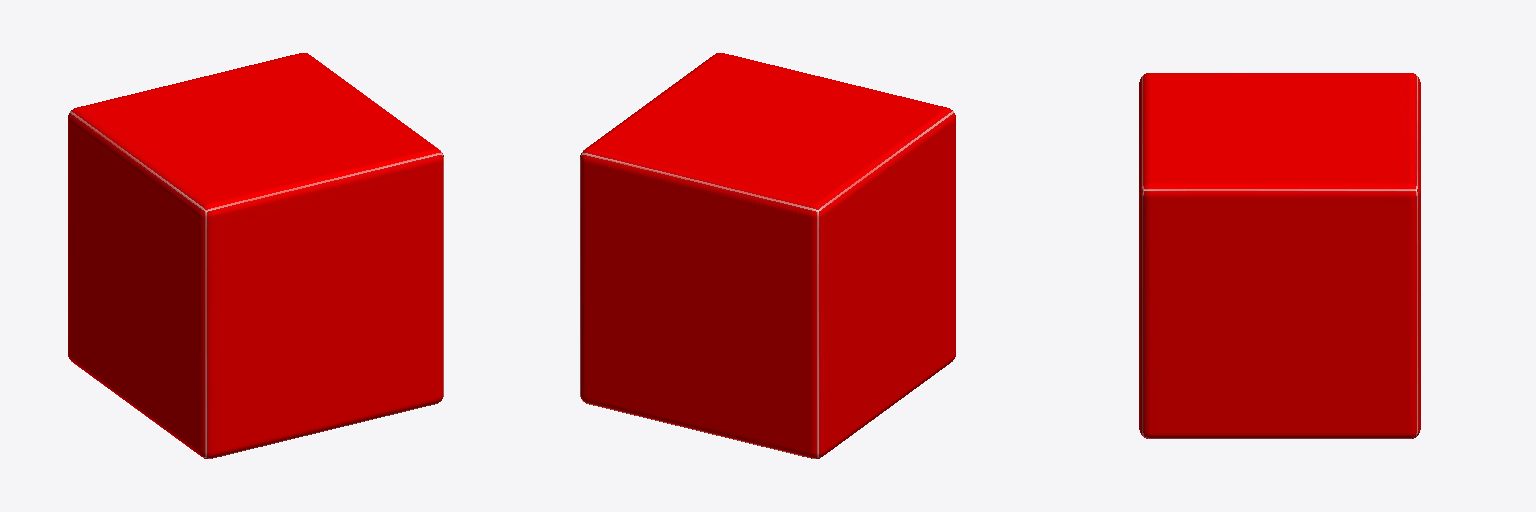
3 views of the same model, side by side, from view 1: azimuth 30°, elevation 25°; view 2: azimuth 150°, elevation 25°; view 3: azimuth 270°, elevation 25° (orthographic).
Parts seen in each view (by area): view 1: 000_Box; view 2: 000_Box; view 3: 000_Box.
Boxes of the visible parts, x1,y1,x2,y2 form: 000_Box: [68, 53, 443, 458]; 000_Box: [580, 53, 955, 458]; 000_Box: [1139, 73, 1420, 438].
Size of the model in its own units: 10 by 10 by 10.
Materials: 1 (1 with a texture image).